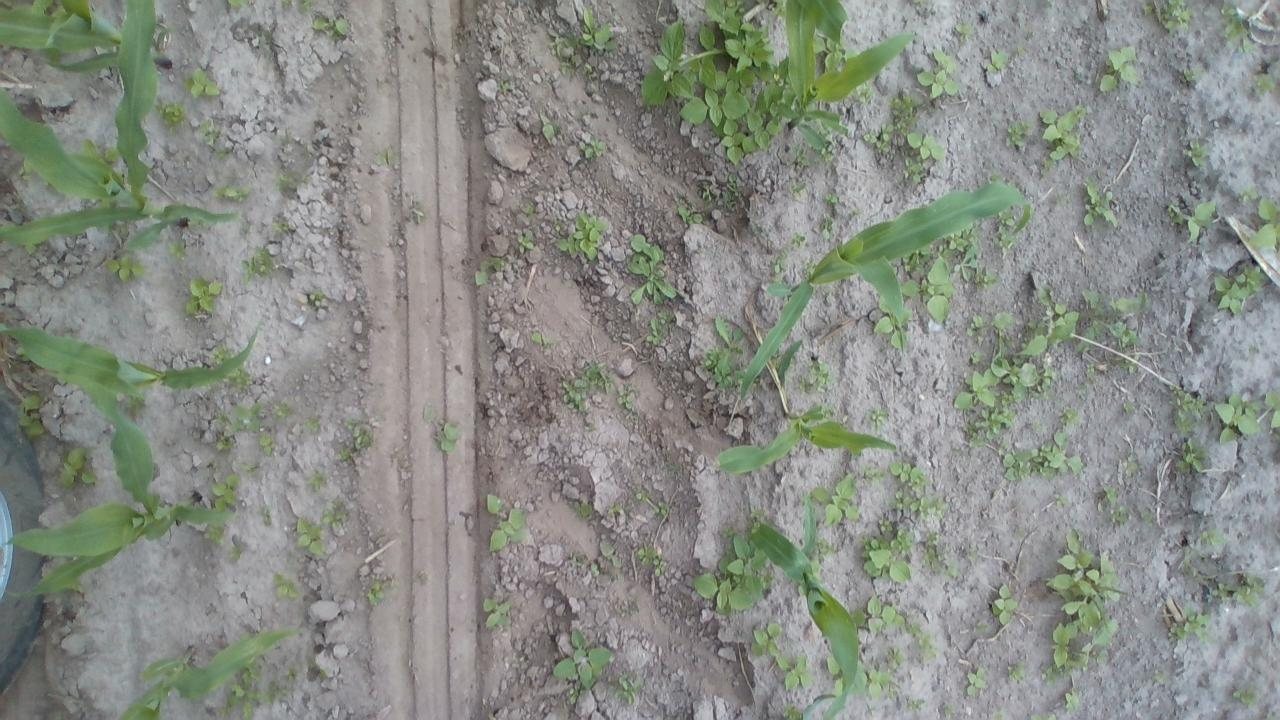Maize: (734, 179, 1032, 398), (1, 0, 240, 254), (6, 371, 232, 598), (754, 495, 860, 720), (778, 0, 918, 151), (1, 323, 263, 395), (116, 627, 300, 720), (4, 0, 173, 75), (713, 406, 896, 471), (793, 0, 849, 46)
Weeds: (636, 0, 786, 165), (954, 290, 1136, 408), (1047, 523, 1122, 672), (696, 528, 772, 615), (901, 253, 960, 326), (224, 666, 298, 720), (211, 401, 280, 458), (622, 236, 678, 300), (556, 628, 616, 684), (699, 318, 745, 390), (862, 532, 917, 586), (562, 359, 611, 419), (948, 227, 998, 285), (1212, 266, 1264, 321), (1036, 106, 1088, 160), (1024, 433, 1084, 479), (812, 470, 859, 525), (552, 212, 603, 262), (486, 492, 526, 553), (1218, 393, 1262, 443), (918, 47, 962, 96), (1168, 200, 1216, 243), (1212, 573, 1272, 607), (1100, 46, 1143, 93), (850, 595, 904, 632), (1080, 181, 1124, 226), (898, 487, 951, 520), (873, 302, 909, 349), (14, 397, 54, 439), (56, 443, 96, 485), (1216, 6, 1254, 50), (422, 404, 459, 449), (1247, 200, 1280, 250), (796, 356, 839, 394), (1172, 388, 1206, 434), (338, 418, 372, 464), (858, 662, 901, 698), (922, 532, 957, 576), (182, 278, 223, 314), (294, 514, 329, 556), (774, 650, 812, 688), (1167, 610, 1217, 638), (744, 618, 781, 654), (905, 132, 946, 164), (991, 582, 1019, 628), (890, 92, 923, 131), (185, 66, 222, 100), (242, 247, 280, 280), (211, 470, 244, 508), (972, 408, 1018, 434), (471, 254, 508, 286), (812, 35, 854, 63), (1176, 437, 1210, 471), (572, 8, 608, 40), (280, 166, 312, 201), (1158, 0, 1190, 31), (969, 315, 1018, 335), (107, 254, 144, 280), (322, 504, 352, 536), (637, 487, 669, 516), (637, 541, 664, 575), (909, 626, 938, 657), (549, 33, 573, 70), (312, 14, 352, 36), (1001, 444, 1023, 484), (155, 96, 184, 126), (1006, 115, 1032, 148), (864, 124, 894, 151), (486, 596, 510, 629), (273, 570, 300, 598), (891, 463, 928, 483), (210, 184, 250, 202), (600, 541, 624, 569), (578, 139, 610, 160), (966, 664, 988, 694), (649, 311, 667, 347), (1231, 688, 1263, 708), (1265, 390, 1280, 432), (721, 174, 742, 204), (826, 656, 843, 692), (621, 676, 641, 706), (618, 386, 640, 413), (676, 207, 704, 228), (1184, 139, 1208, 163), (198, 118, 225, 138), (274, 213, 296, 237), (814, 218, 839, 239), (169, 240, 195, 260), (578, 554, 599, 578), (366, 579, 384, 606), (1178, 64, 1202, 84), (904, 164, 929, 182), (307, 472, 327, 494), (1252, 73, 1272, 95), (242, 461, 268, 477), (530, 328, 550, 348), (888, 648, 908, 668), (1122, 454, 1138, 479), (986, 50, 1006, 70), (1058, 405, 1078, 424), (373, 152, 400, 166), (274, 404, 302, 417), (1242, 187, 1258, 209), (751, 509, 765, 534), (608, 505, 628, 522), (994, 236, 1014, 253), (994, 210, 1014, 227), (224, 0, 250, 13), (542, 115, 554, 143), (566, 682, 580, 706), (865, 466, 889, 480), (230, 368, 250, 384), (1102, 483, 1118, 503), (310, 416, 325, 437), (954, 22, 976, 36), (868, 408, 890, 422), (1112, 510, 1130, 527), (793, 148, 811, 165), (574, 500, 594, 515), (1007, 664, 1022, 684), (519, 201, 540, 215), (1140, 504, 1156, 522), (1063, 692, 1079, 710), (517, 235, 536, 250), (1044, 666, 1058, 686), (791, 232, 808, 248), (1038, 156, 1052, 174), (854, 87, 873, 100), (262, 507, 274, 527), (822, 145, 838, 160), (968, 352, 982, 369), (784, 703, 800, 717), (214, 147, 234, 158), (702, 180, 714, 198), (215, 348, 228, 364), (206, 526, 223, 538), (1056, 490, 1066, 510), (228, 547, 242, 561), (987, 710, 1006, 720), (974, 622, 989, 634), (909, 700, 929, 709), (309, 293, 325, 304), (1140, 1, 1153, 14), (1029, 714, 1057, 720), (300, 0, 318, 8), (822, 192, 838, 201), (776, 259, 786, 273), (882, 520, 895, 530), (1207, 530, 1220, 540), (318, 669, 330, 679), (504, 82, 516, 92), (308, 659, 318, 670), (284, 0, 294, 10), (794, 185, 804, 194), (914, 0, 926, 4)
